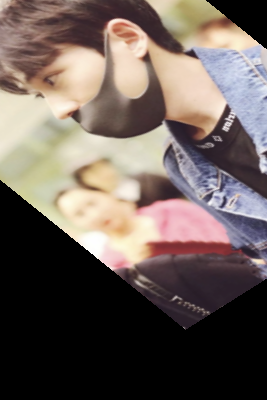mask_weared_incorrect: (1, 1, 177, 139)
